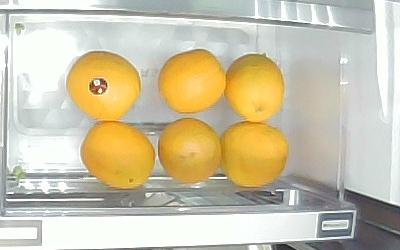orange: (66, 50, 143, 122), (81, 121, 155, 188), (221, 122, 288, 188), (158, 49, 225, 114), (158, 118, 222, 183), (225, 53, 284, 123)
